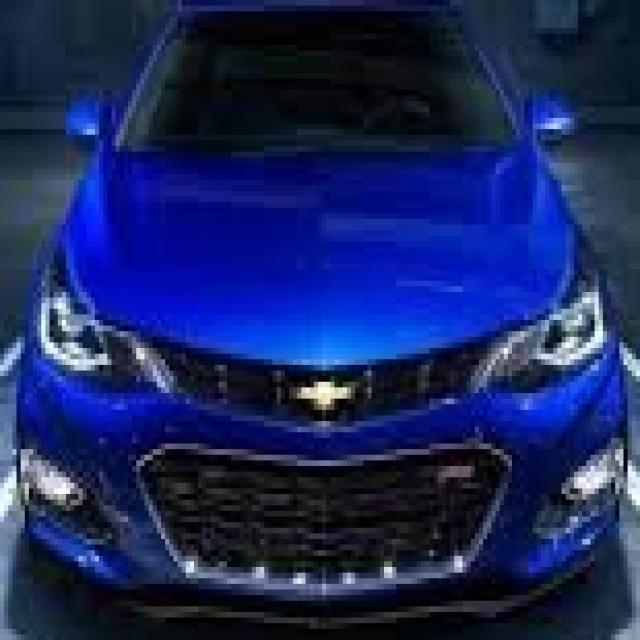blue: (8, 0, 632, 629)
